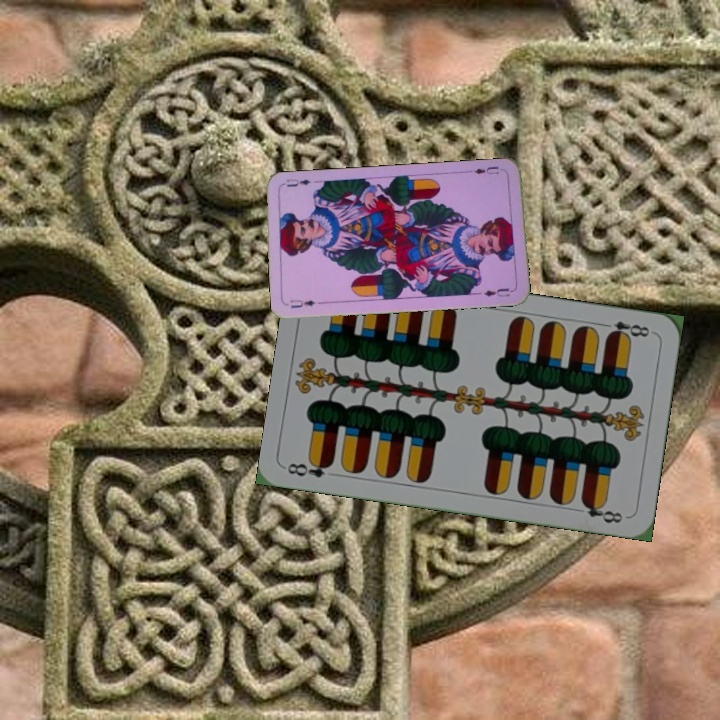E8: (597, 317, 652, 342), (283, 456, 336, 480)
EU: (471, 162, 507, 177), (286, 295, 317, 310)
